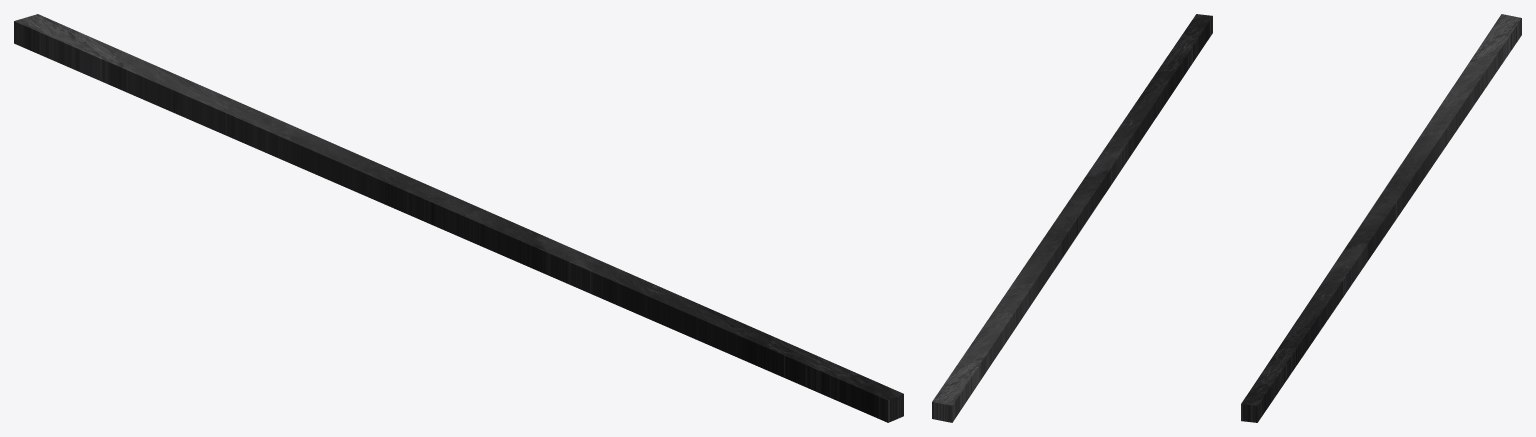
File: noir4.FBX
The picture shows the model from 3 angles, left to right: view 1: azimuth 30°, elevation 25°; view 2: azimuth 150°, elevation 25°; view 3: azimuth 330°, elevation 25°; orthographic projection. The views are drawn at different scales.
Visible parts, largest first — view 1: Ligne009; view 2: Ligne009; view 3: Ligne009.
Boxes of the visible parts, x1,y1,x2,y2 form: Ligne009: (14,14,903,422); Ligne009: (932,14,1212,422); Ligne009: (1241,14,1521,422).
Bounding box in the file's own units: 3.95 × 0.2959 × 14.57.
1 material, 1 textured.
